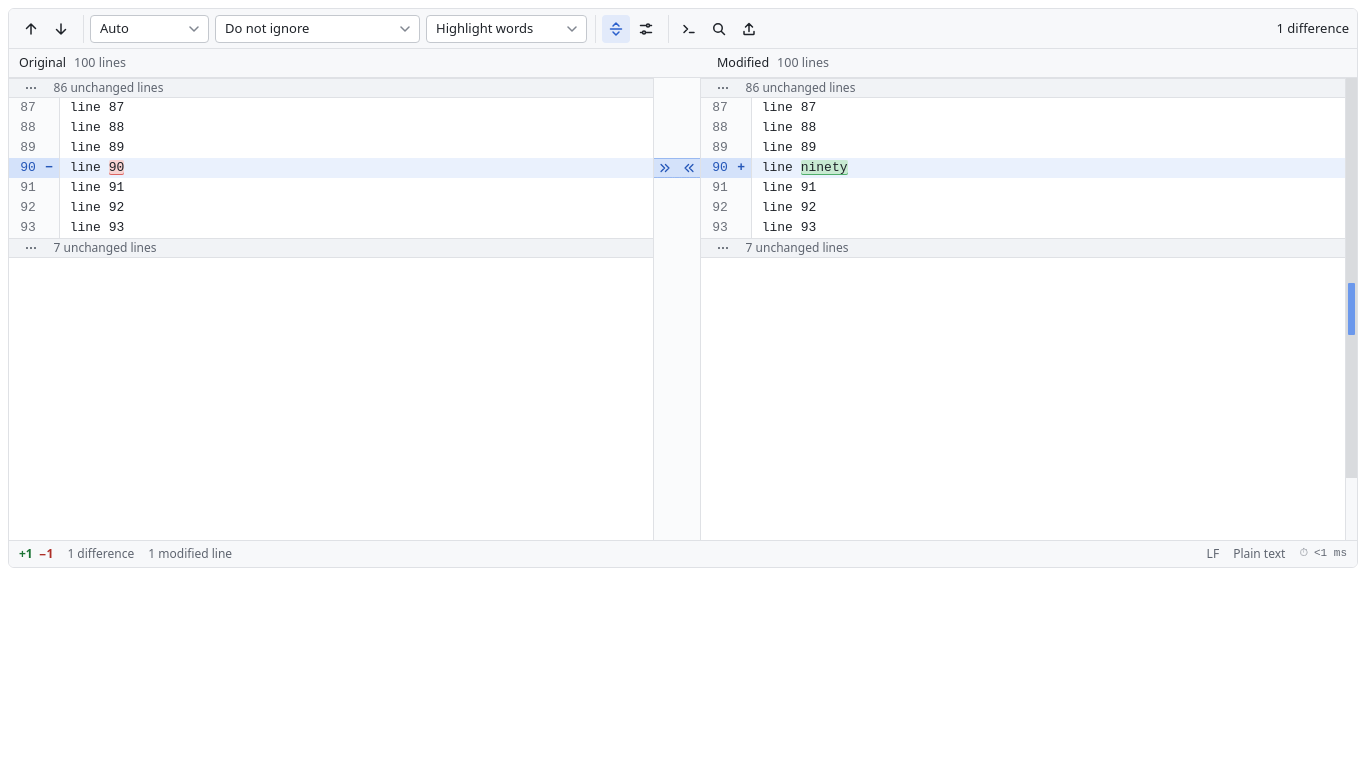
Scenario: <DiffViewer> search › expands a fold to reveal a match inside it
The image size is (1366, 768).
Click the button named "Search": (719, 28) [705,14,733,42]
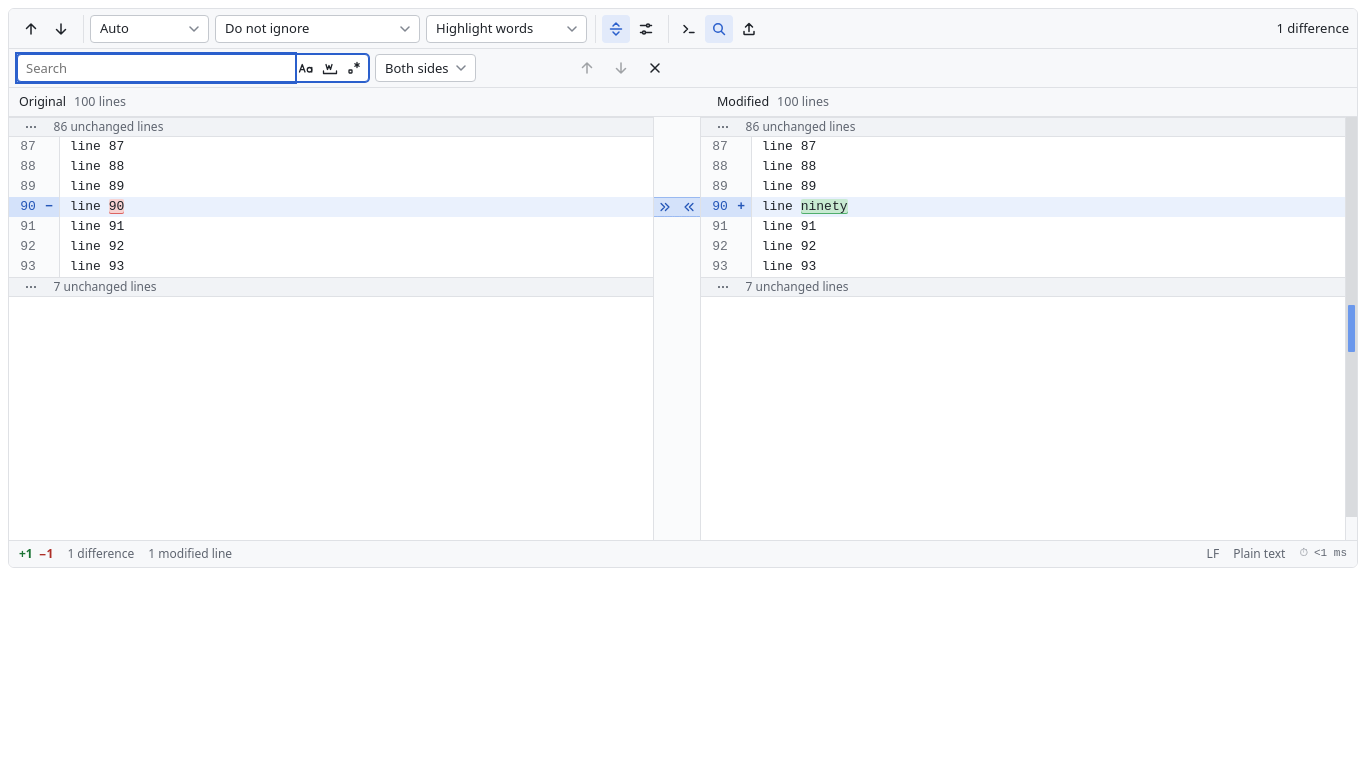
In the search field: (156, 68) [18,55,294,81], type "line 10"
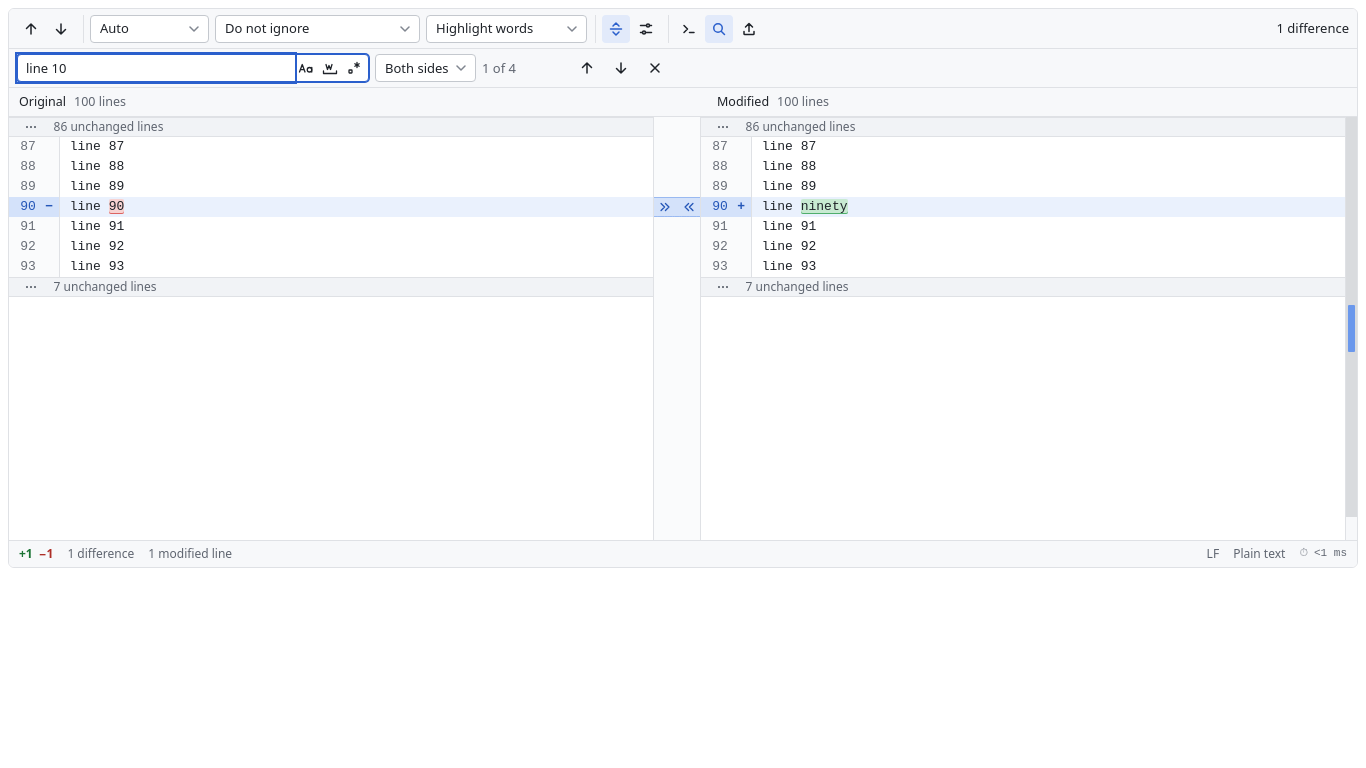
Press Enter
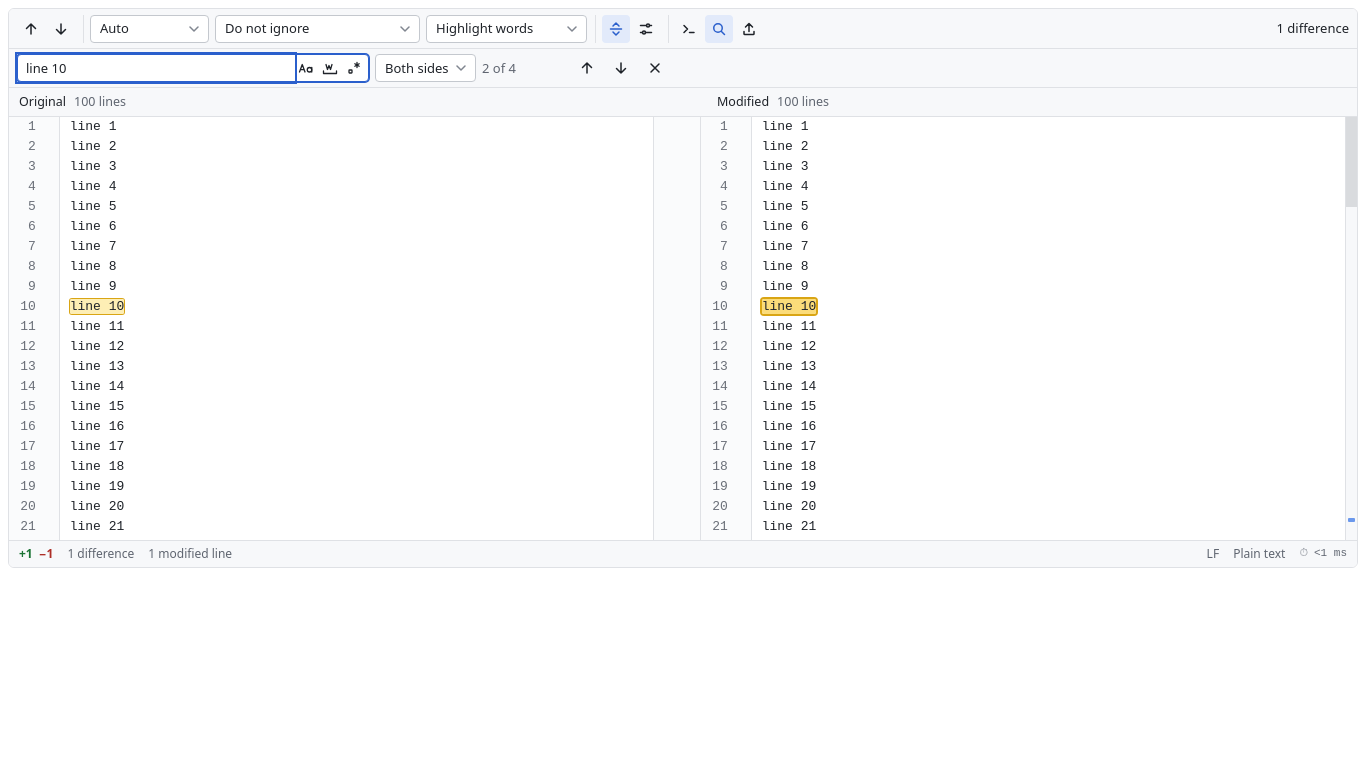
Expected: the text with class "m2d-match-active" is shown, [762,299,816,314]
